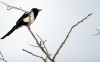magpie: (3, 8, 40, 40)
